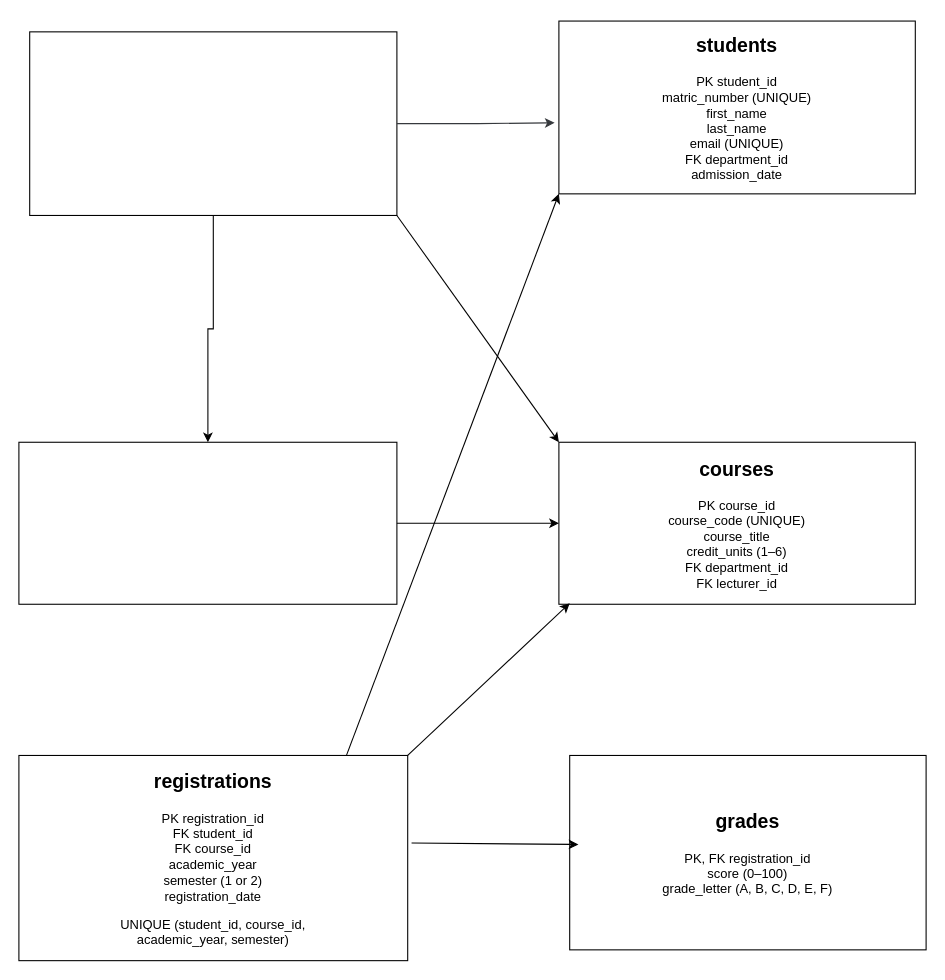
Some shapes in this 945 by 980 pixel diagram are drawn without their labels. The shapes that lost their labels are listed below. From the top down, each one's box as (x1, y1, x2, y2) in pixels, then its label:
(29, 31, 397, 215): departments PK department_id department_name (UNIQUE, NOT NULL)
(18, 441, 397, 604): lecturers PK lecturer_id lecturer_name email (UNIQUE) FK department_id
